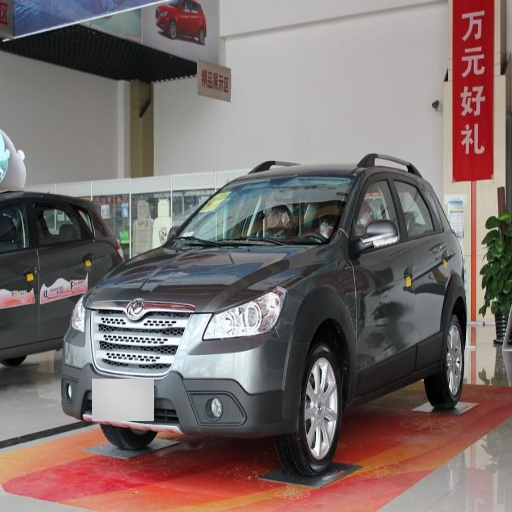front_bumper: (66, 295, 307, 439)
front_glass: (171, 176, 354, 246)
front_left_door: (350, 169, 417, 385)
